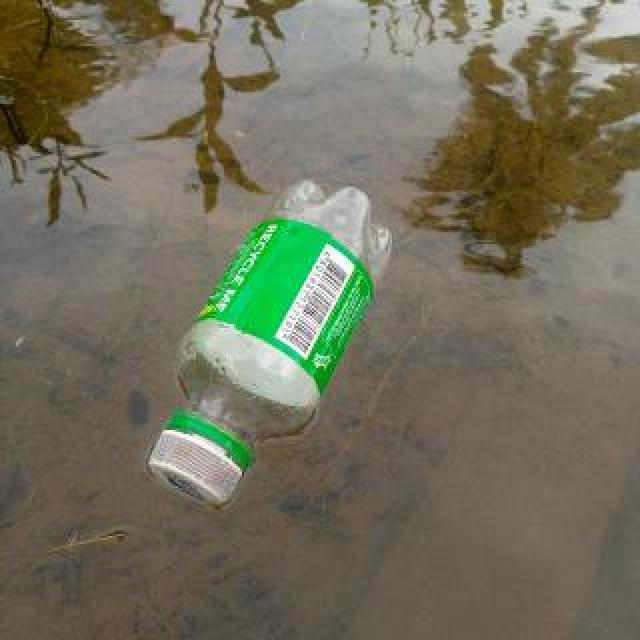Bottle: (141, 173, 398, 515)
